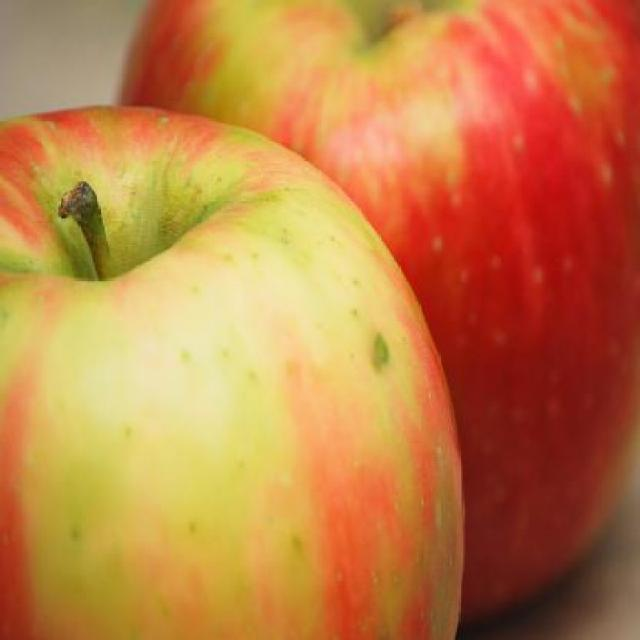Apple pie: (114, 0, 639, 618), (0, 106, 465, 640)
